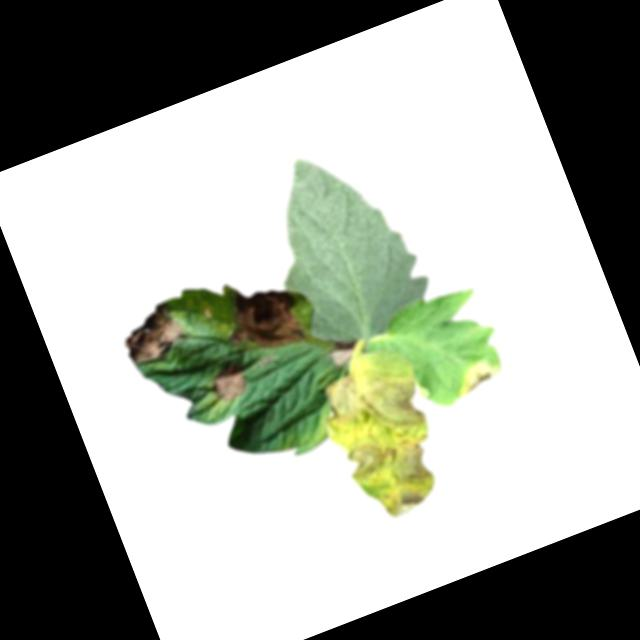Late_blight: (312, 351, 461, 529), (212, 267, 307, 366), (113, 296, 193, 371), (448, 356, 503, 400), (208, 359, 252, 403), (328, 342, 357, 369)
healthy: (243, 128, 444, 360)
